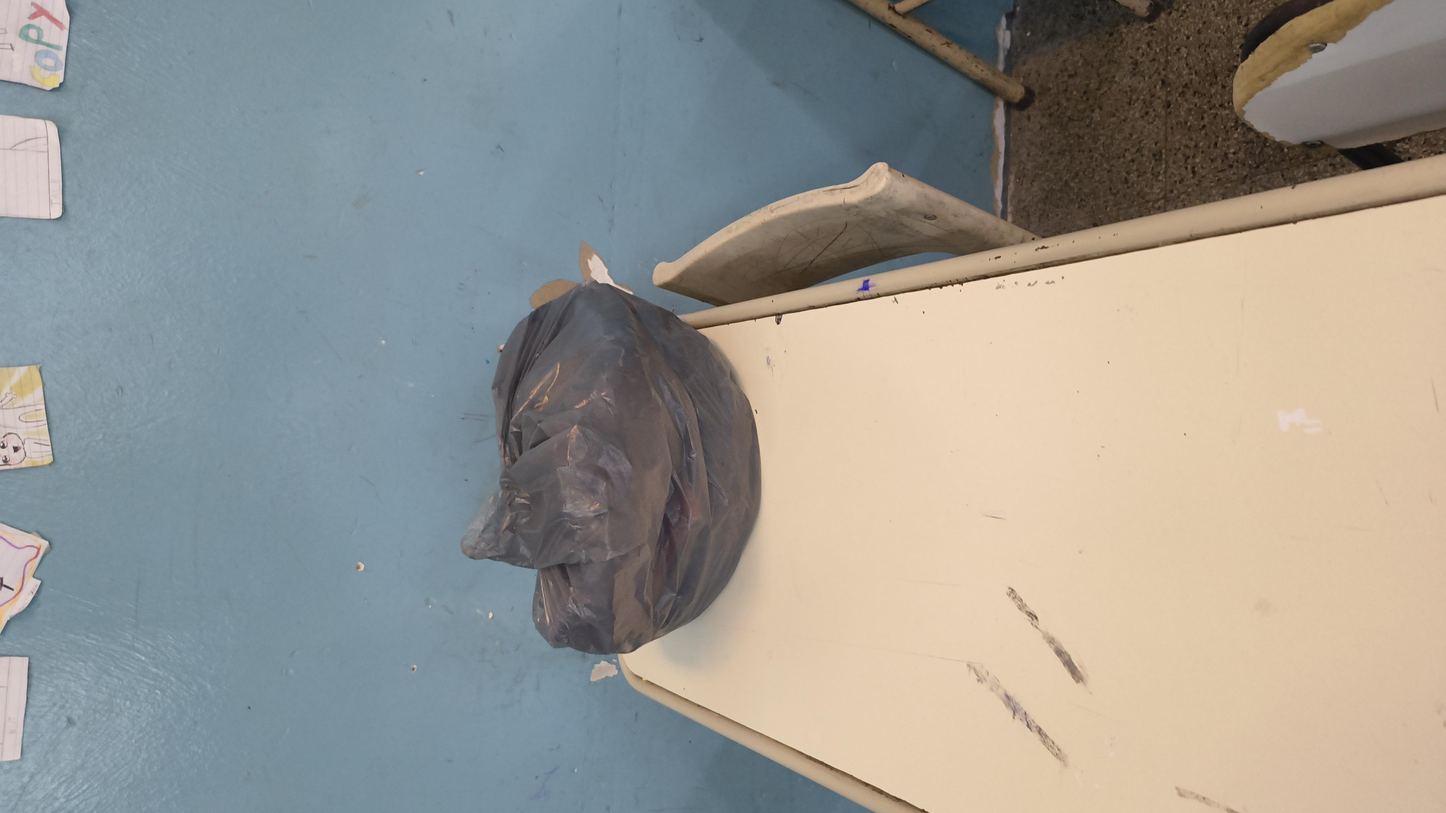Garbage: (213, 240, 1105, 451)
